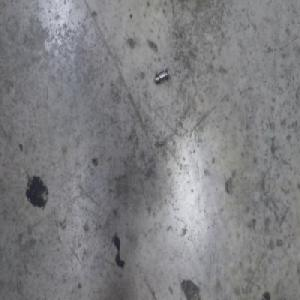Bolt: (154, 66, 170, 85)
